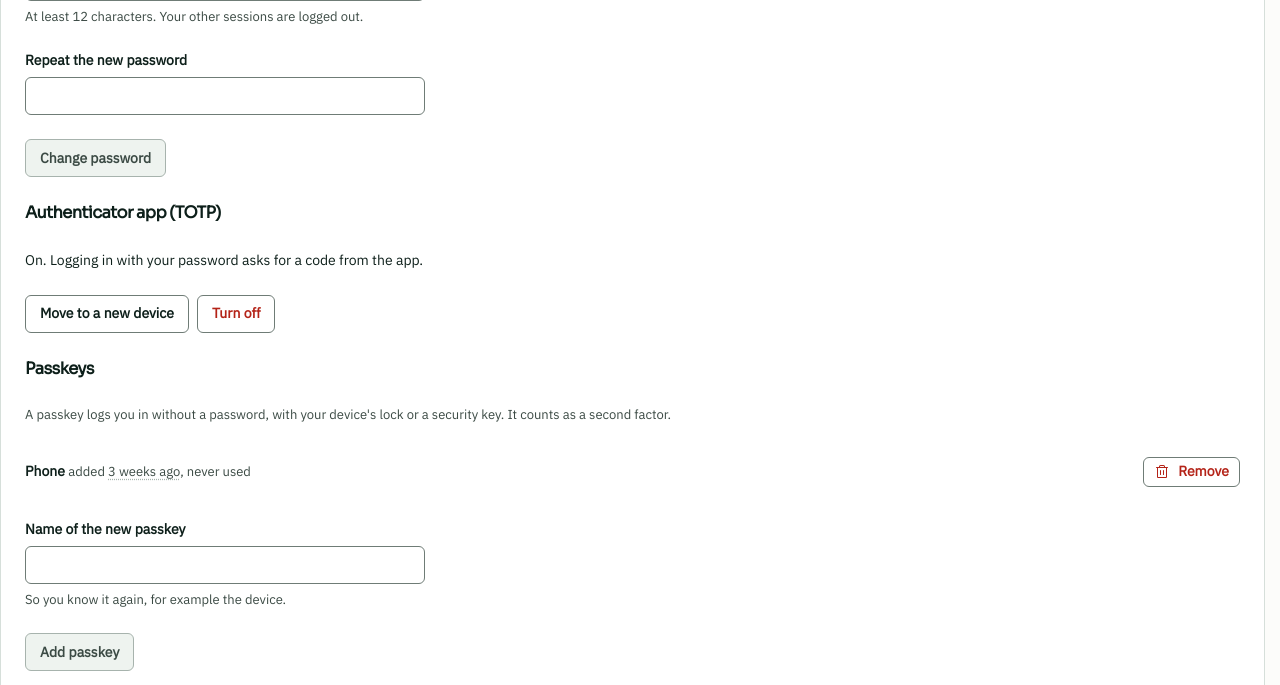
Test case: SecurityCard › lists and removes passkeys
(page scrolled)
expect the text "Phone" is shown: met, box top-left (25, 462), bottom-right (65, 480)
expect the list named "Your passkeys" shows "never used": met, box top-left (180, 463), bottom-right (251, 480)
Step 1. Click the button with aria-label "Remove passkey Phone" → (1192, 472), box top-left (1143, 457), bottom-right (1240, 487)
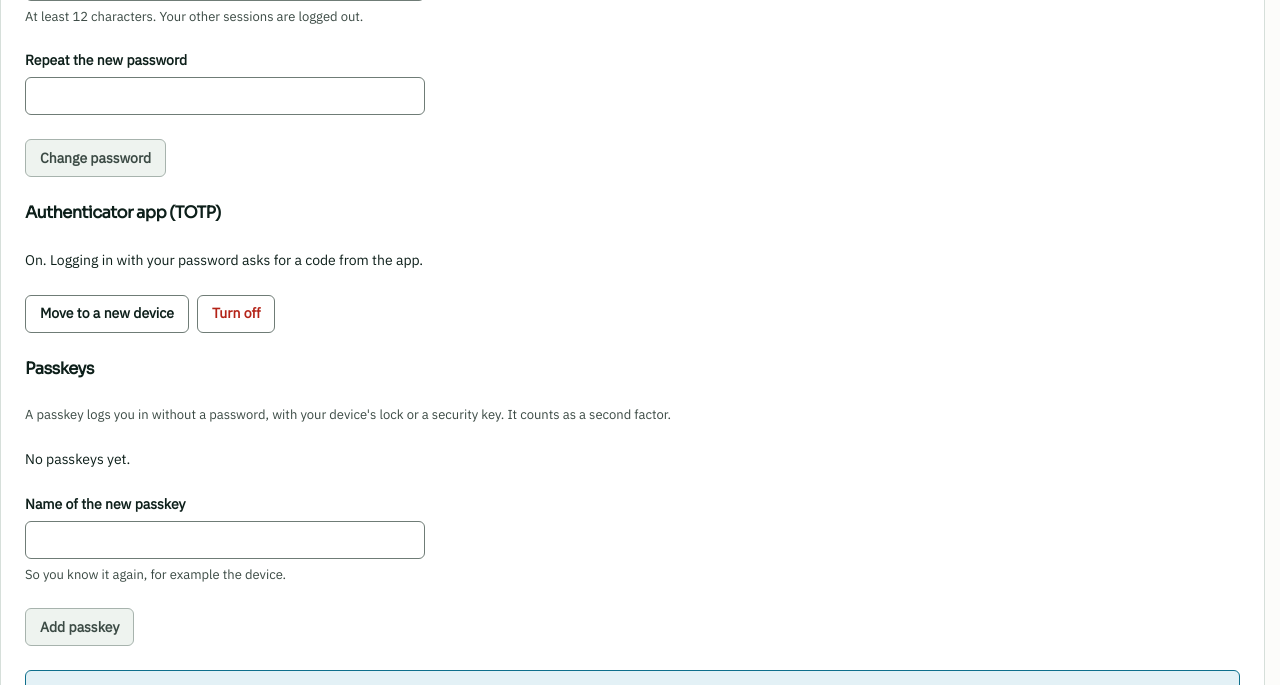
expect the text "No passkeys yet." is shown: met, box top-left (25, 450), bottom-right (130, 468)
